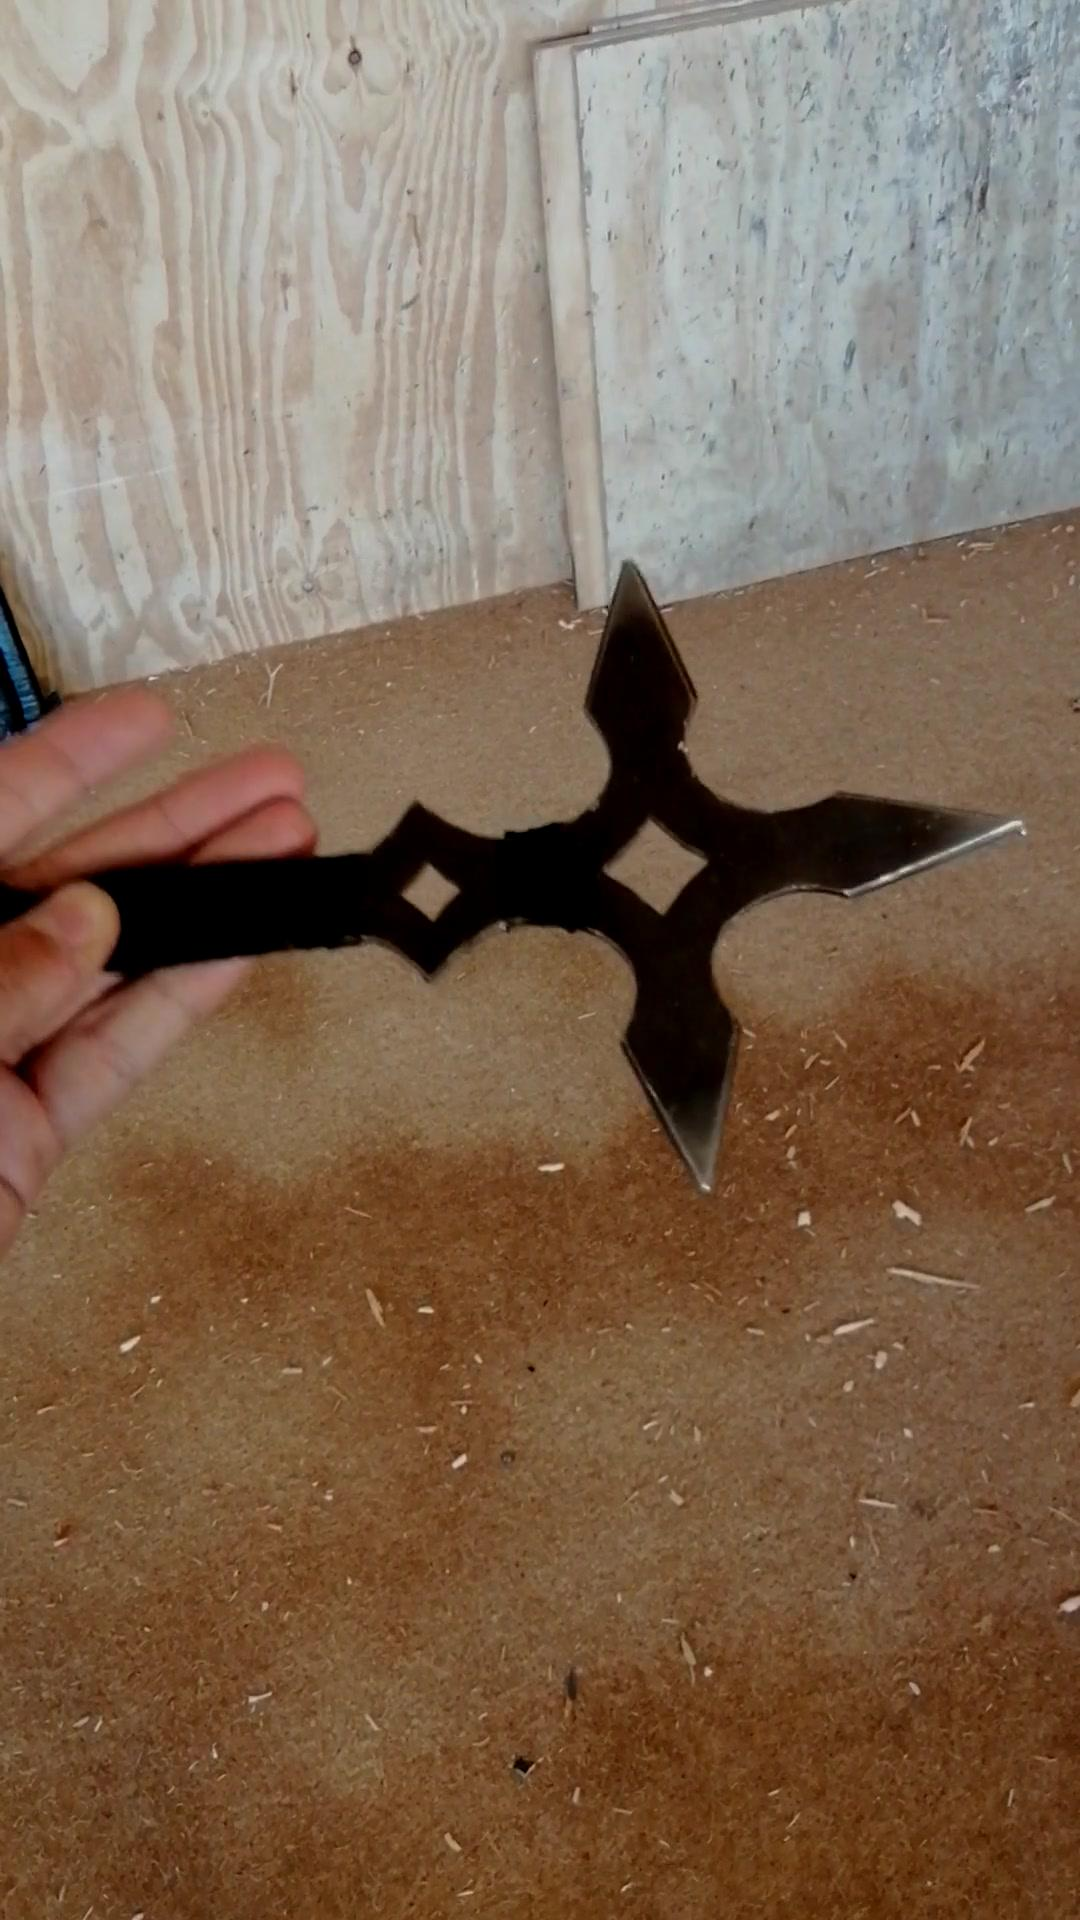Hand Axe: (80, 564, 1029, 1193)
